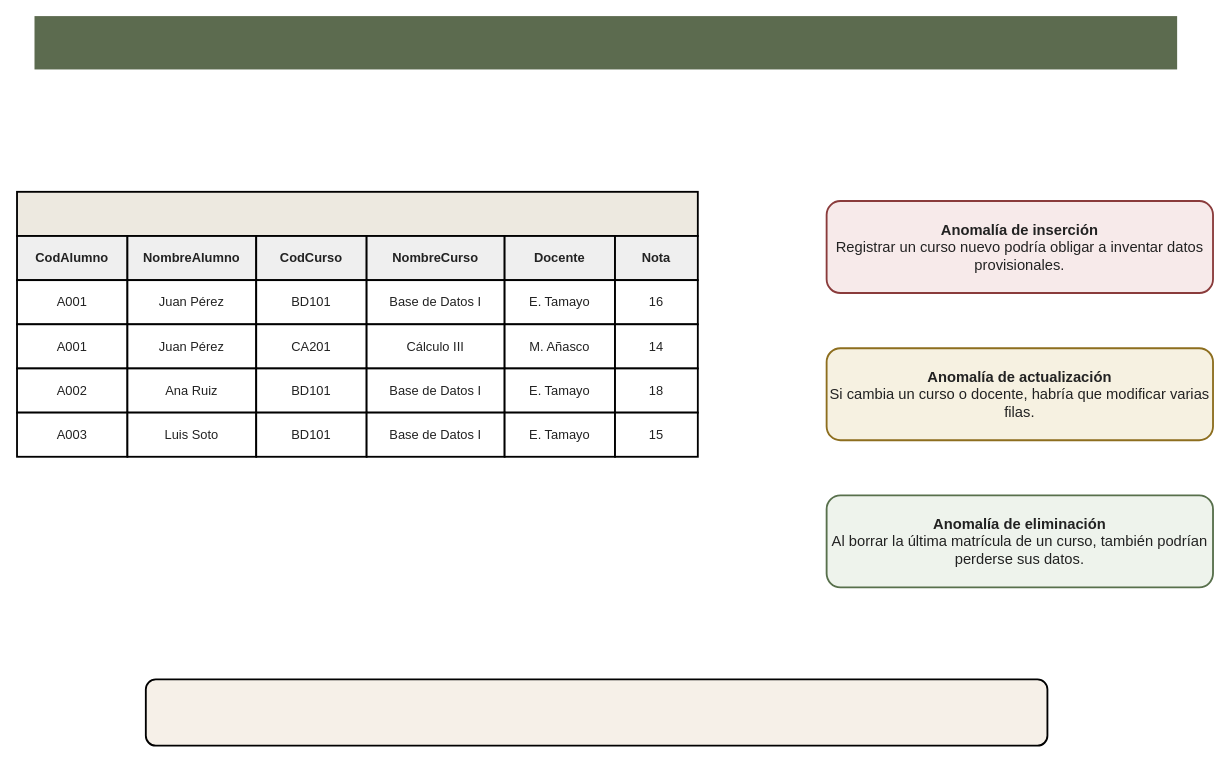
The diagram is 1229 pixels wide and 762 high, and some of its shapes have lost their labels. The centre of each missing label's shape, as x and y in pixels:
"La normalización organiza los datos según sus dependencias y reduce redundancia." goes at (596,712).
"Problemas de una tabla no normalizada" goes at (605,42).
"REGISTRO_MATRICULA" goes at (357,213).
